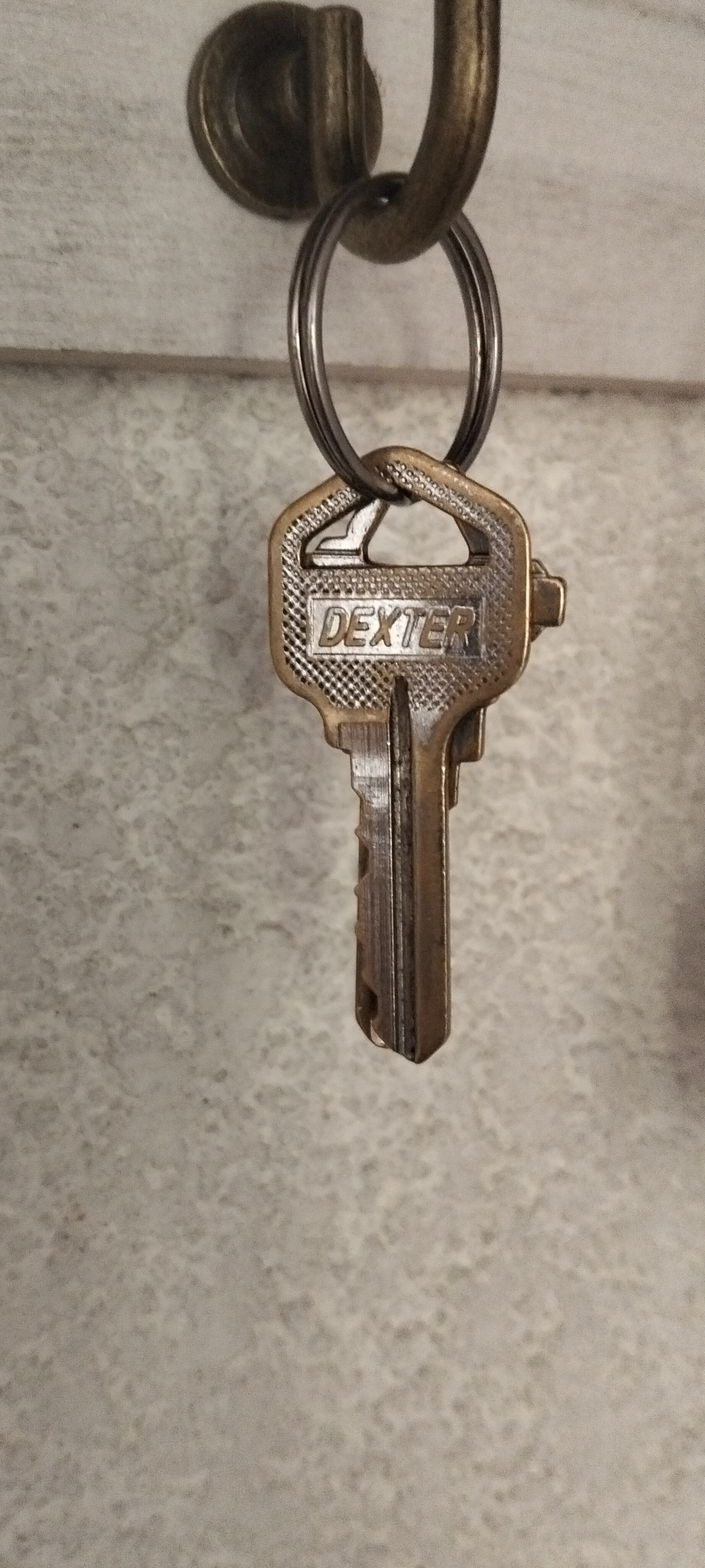llaves: (199, 164, 607, 1079)
